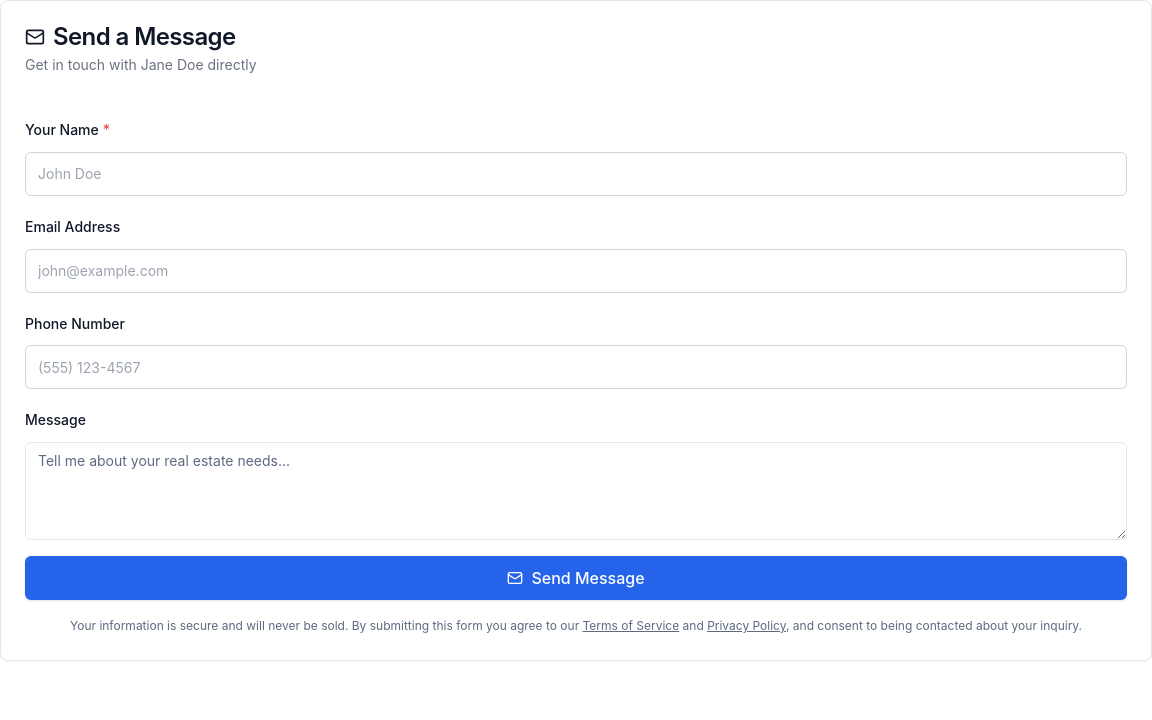
it: ContactForm › confirms to the visitor once the lead is stored
In the field labelled "Your Name*": (576, 174) left=25, top=152, right=1127, bottom=196, type "Dana Rivers"
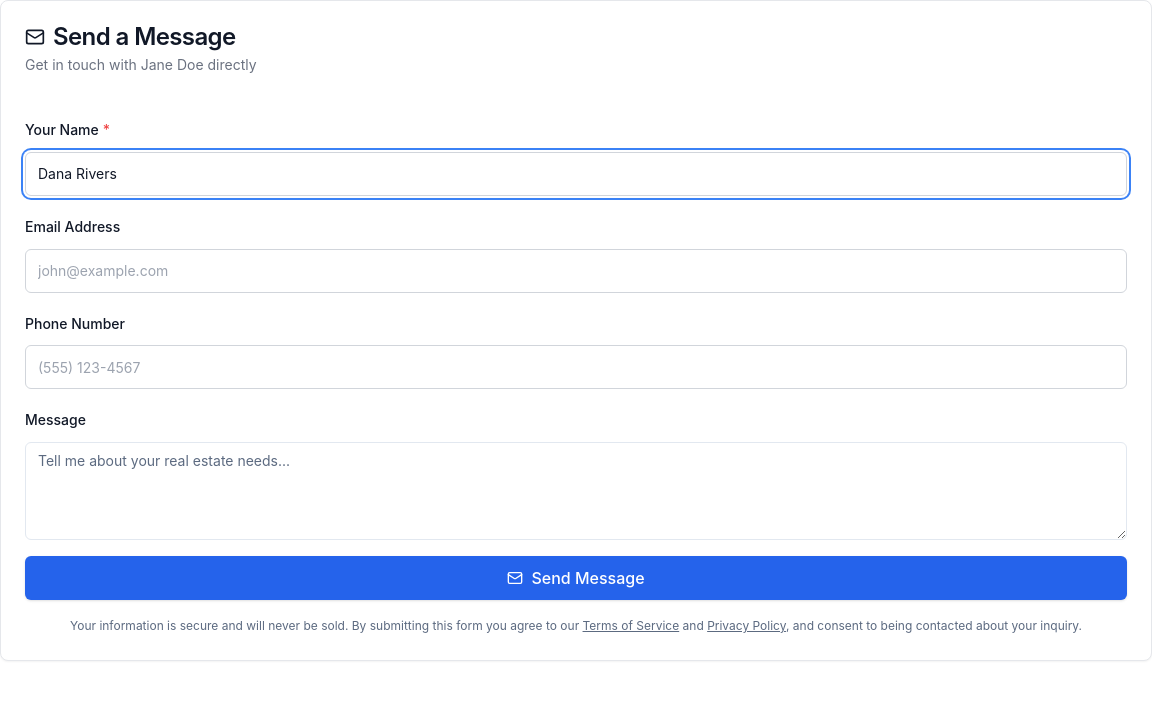
In the field labelled "Email Address": (576, 271) left=25, top=249, right=1127, bottom=293, type "dana@example.com"
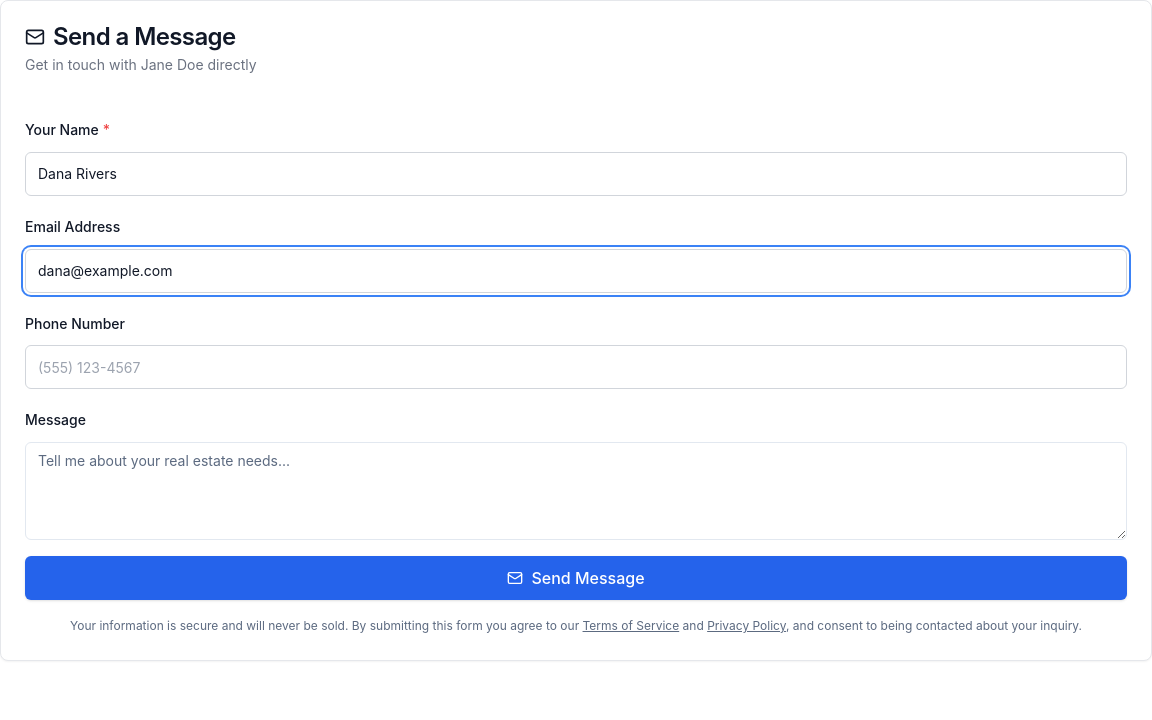
In the field labelled "Phone Number": (576, 367) left=25, top=345, right=1127, bottom=389, type "5550142000"
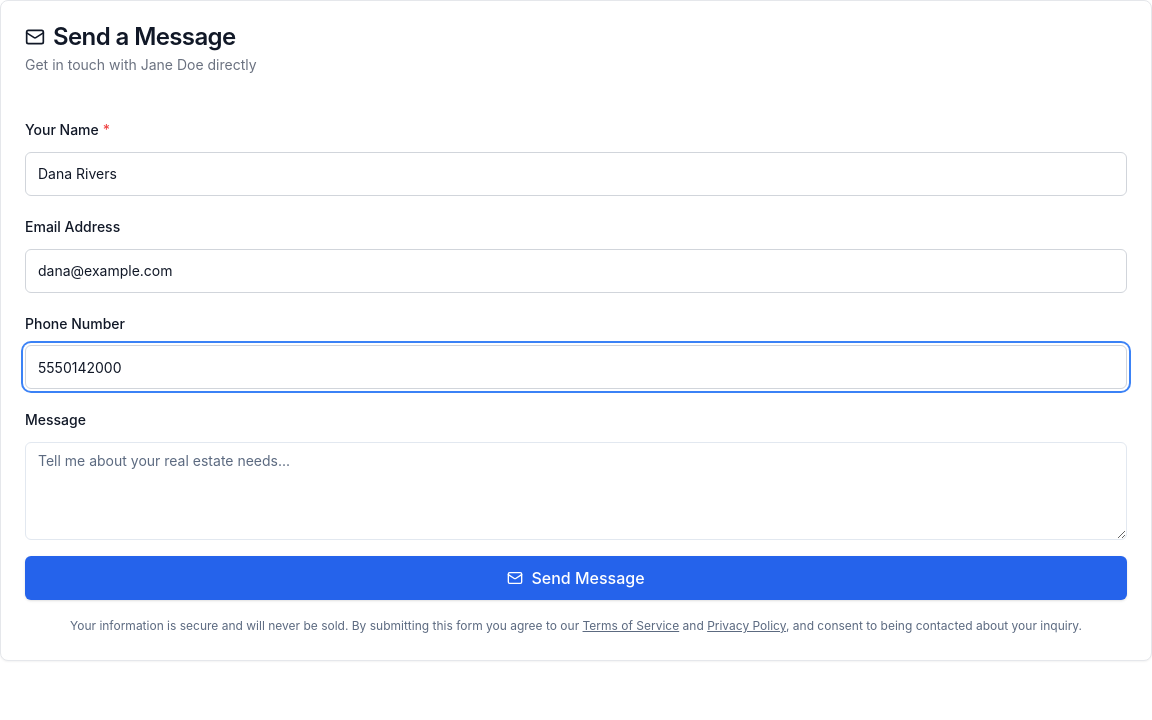
In the text box labelled "Message": (576, 491) left=25, top=442, right=1127, bottom=540, type "Is the Maple Avenue listing still available?"
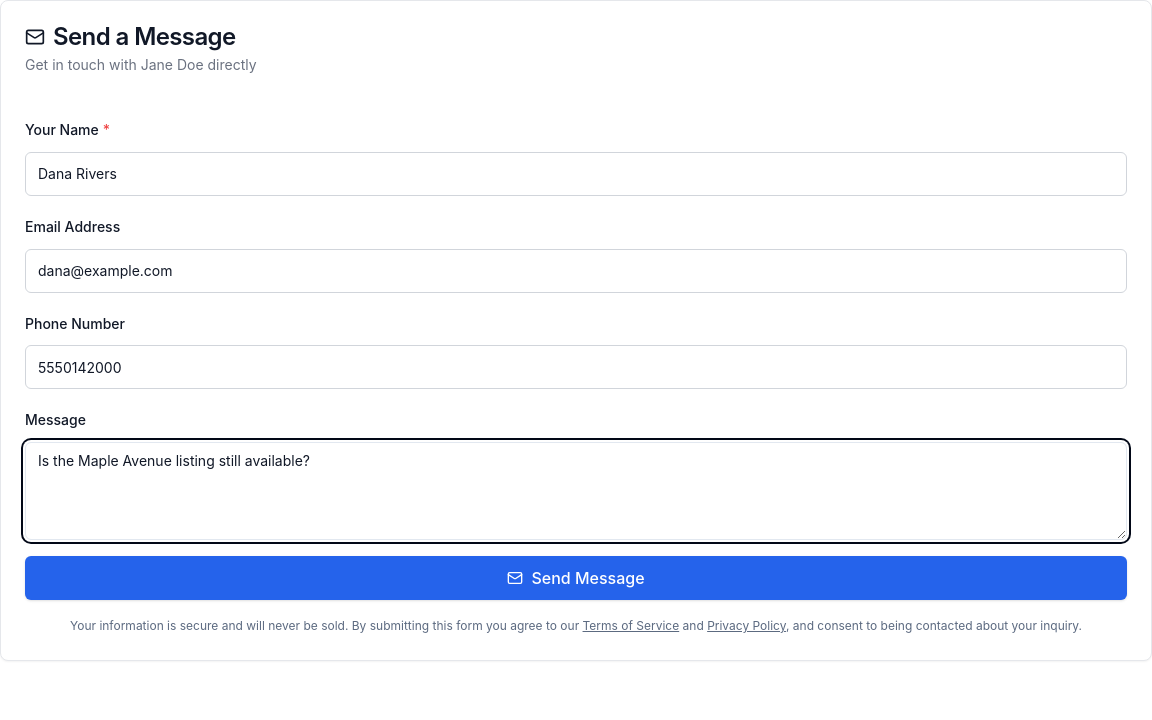
Click the button "Send Message": (576, 578) left=25, top=556, right=1127, bottom=600
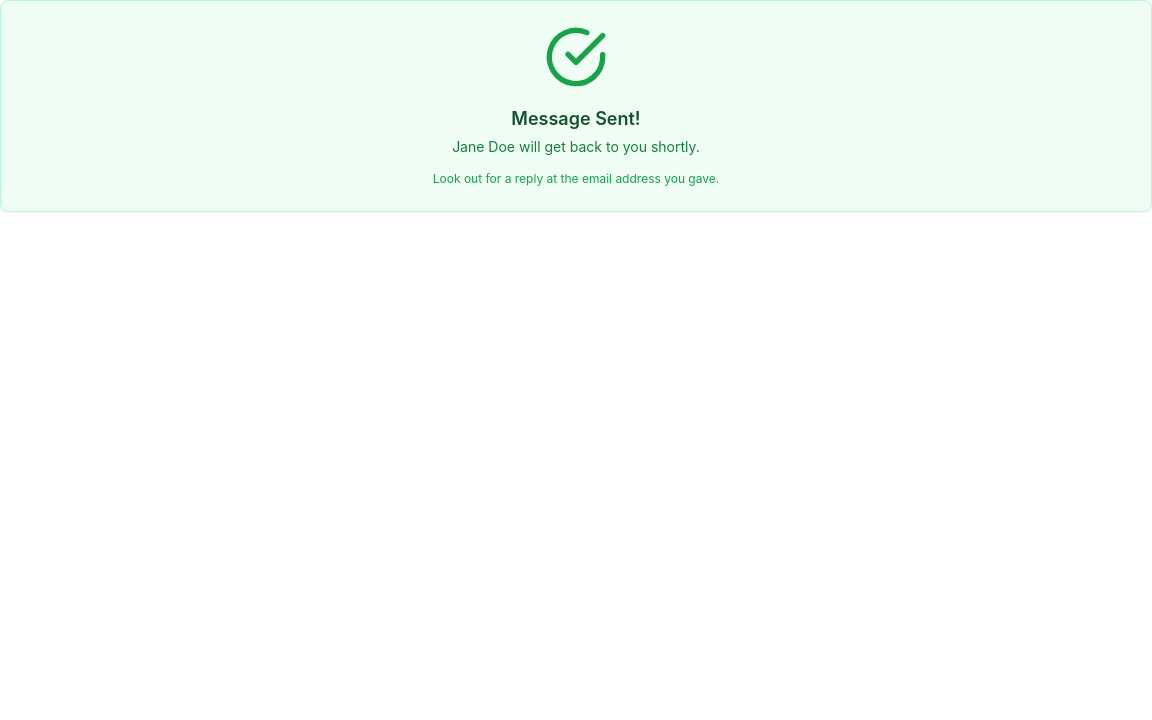
Check: the heading "Message Sent!" is shown, box left=511, top=108, right=641, bottom=129
